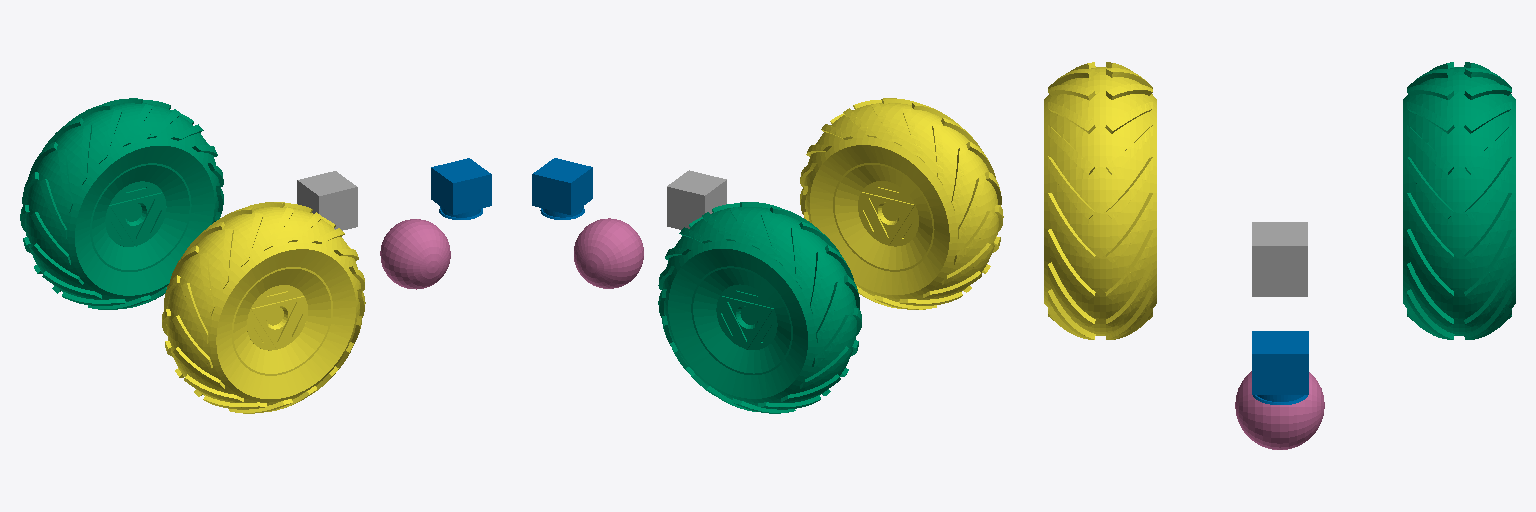
robot.urdf — iBot:
<?xml version="1.0"?>
<!-- =================================================================================== -->
<!-- |    This document was autogenerated by xacro from [local-path]/ros2/airbus_ws/src/Autonomous-Inspection-POC/simulation/models/iBot/iBot.urdf.xacro | -->
<!-- |    EDITING THIS FILE BY HAND IS NOT RECOMMENDED                                 | -->
<!-- =================================================================================== -->
<robot name="iBot">
  <!--**************** DIFFERENTIAL DRIVE CONTROLLER *********************** -->
  <gazebo>
    <plugin filename="libgazebo_ros_diff_drive.so" name="differential_drive_controller">
      <ros>
        <namespace>iBot</namespace>
        <remapping>/cmd_vel:=cmd_vel</remapping>
        <remapping>/odom:=odom</remapping>
      </ros>
      <update_rate>20.0</update_rate>
      <num_wheel_pairs>1</num_wheel_pairs>
      <odometry_frame>odom</odometry_frame>
      <!-- <left_joint>front_left_wheel_joint</left_joint> -->
      <left_joint>back_left_wheel_joint</left_joint>
      <wheel_separation>0.32</wheel_separation>
      <wheel_diameter>0.25</wheel_diameter>
      <!-- <right_joint>front_right_wheel_joint</right_joint> -->
      <right_joint>back_right_wheel_joint</right_joint>
      <wheel_separation>0.32</wheel_separation>
      <wheel_diameter>0.25</wheel_diameter>
      <max_wheel_torque>20</max_wheel_torque>
      <max_wheel_acceleration>1.0</max_wheel_acceleration>
      <publish_odom>true</publish_odom>
      <!-- robot_localization package publishes this transform -->
      <publish_odom_tf>false</publish_odom_tf>
      <!-- The robot_state_publisher package is often used to publish this transform -->
      <publish_wheel_tf>true</publish_wheel_tf>
      <odometry_frame>odom</odometry_frame>
      <robot_base_frame>robot_footprint</robot_base_frame>
    </plugin>
  </gazebo>
  <!-- ************************ CAMERA SENSOR ****************************** -->
  <gazebo reference="camera">
    <sensor name="camera_sensor" type="camera">
      <update_rate>30.0</update_rate>
      <always_on>1</always_on>
      <camera name="camera">
        <!-- <horizontal_fov>1.3962634</horizontal_fov> -->
        <horizontal_fov>1.2</horizontal_fov>
        <image>
          <width>800</width>
          <height>800</height>
          <format>R8G8B8</format>
        </image>
        <clip>
          <near>0.02</near>
          <far>300</far>
        </clip>
        <distortion>
          <k1>0.0</k1>
          <k2>0.0</k2>
          <k3>0.0</k3>
          <p1>0.0</p1>
          <p2>0.0</p2>
          <center>0.5 0.5</center>
        </distortion>
      </camera>
      <plugin filename="libgazebo_ros_camera.so" name="camera_controller">
        <ros>
          <namespace>/iBot</namespace>
          <remapping>camera/image_raw:=/iBot/camera/image</remapping>
          <remapping>camera/camera_info:=/iBot/camera/image/camera_info</remapping>
        </ros>
        <camera_name>camera</camera_name>
        <frame_name>camera_frame</frame_name>
        <hack_baseline>0.07</hack_baseline>
      </plugin>
    </sensor>
  </gazebo>
  <!-- ************************* IMU SENSOR ******************************** -->
  <gazebo reference="imu">
    <sensor name="imu_sensor" type="imu">
      <plugin filename="libgazebo_ros_imu_sensor.so" name="imu">
        <ros>
          <namespace>/iBot</namespace>
          <remapping>~/out:=imu</remapping>
        </ros>
        <initial_orientation_as_reference>false</initial_orientation_as_reference>
      </plugin>
      <always_on>true</always_on>
      <update_rate>100</update_rate>
      <visualize>true</visualize>
      <imu>
        <angular_velocity>
          <x>
            <noise type="gaussian">
              <mean>0.0</mean>
              <stddev>2e-4</stddev>
              <bias_mean>0.0000075</bias_mean>
              <bias_stddev>0.0000008</bias_stddev>
            </noise>
          </x>
          <y>
            <noise type="gaussian">
              <mean>0.0</mean>
              <stddev>2e-4</stddev>
              <bias_mean>0.0000075</bias_mean>
              <bias_stddev>0.0000008</bias_stddev>
            </noise>
          </y>
          <z>
            <noise type="gaussian">
              <mean>0.0</mean>
              <stddev>2e-4</stddev>
              <bias_mean>0.0000075</bias_mean>
              <bias_stddev>0.0000008</bias_stddev>
            </noise>
          </z>
        </angular_velocity>
        <linear_acceleration>
          <x>
            <noise type="gaussian">
              <mean>0.0</mean>
              <stddev>1.7e-2</stddev>
              <bias_mean>0.1</bias_mean>
              <bias_stddev>0.001</bias_stddev>
            </noise>
          </x>
          <y>
            <noise type="gaussian">
              <mean>0.0</mean>
              <stddev>1.7e-2</stddev>
              <bias_mean>0.1</bias_mean>
              <bias_stddev>0.001</bias_stddev>
            </noise>
          </y>
          <z>
            <noise type="gaussian">
              <mean>0.0</mean>
              <stddev>1.7e-2</stddev>
              <bias_mean>0.1</bias_mean>
              <bias_stddev>0.001</bias_stddev>
            </noise>
          </z>
        </linear_acceleration>
      </imu>
    </sensor>
  </gazebo>
  <!-- ********************** JOINT STATE PUBLISHER ************************ -->
  <gazebo>
    <plugin filename="libgazebo_ros_joint_state_publisher.so" name="joint_state_publisher">
      <ros>
        <namespace>iBot</namespace>
        <remapping>~/out:=joint_states</remapping>
      </ros>
      <update_rate>30</update_rate>
      <joint_name>front_left_wheel_joint</joint_name>
      <joint_name>front_right_wheel_joint</joint_name>
      <joint_name>back_left_wheel_joint</joint_name>
      <joint_name>back_right_wheel_joint</joint_name>
    </plugin>
  </gazebo>
  <!-- ********** GAZEBO-ROS-FORCE PLUGIN FOR SIMULATING EDF THRUST ********** -->
  <gazebo>
    <plugin filename="libgazebo_ros_force.so" name="gazebo_ros_force">
      <ros>
        <namespace>iBot</namespace>
        <remapping>/gazebo_ros_force:=wrench</remapping>
      </ros>
      <update_rate>100</update_rate>
      <always_on>true</always_on>
      <link_name>robot_footprint</link_name>
      <force_frame>link</force_frame>
    </plugin>
  </gazebo>
  <gazebo>
    <plugin filename="libgazebo_ros_p3d.so" name="p3d_base_controller">
      <ros>
        <namespace>/iBot</namespace>
        <argument>odom:=ground_truth</argument>
      </ros>
      <always_on>true</always_on>
      <update_rate>50.0</update_rate>
      <body_name>robot_footprint</body_name>
      <gaussian_noise>0.01</gaussian_noise>
      <frame_name>world</frame_name>
      <xyz_offset>0 0 0</xyz_offset>
      <rpy_offset>0 0 0</rpy_offset>
    </plugin>
  </gazebo>
  <!-- ******************** BASE LINK ************************************** -->
  <link name="chassis">
    <collision name="collision">
      <origin rpy=" 1.5707963267948966 0 0" xyz="0 0 0" />
      <geometry>
        <box size="0.4 0.2 0.1" />
        <!-- <mesh filename="package://iBot/meshes/chassis3.obj" /> -->
      </geometry>
    </collision>
    <visual name="chassis_visual">
      <origin rpy=" 1.5707963267948966 0 0" xyz="0 -0 0" />
      <geometry>
        <mesh filename="package://iBot/meshes/chassis3.obj" />
      </geometry>
      <transparency>0</transparency>
      <cast_shadows>1</cast_shadows>
    </visual>
    <inertial>
      <origin rpy="1.5707963267948966 0 1.5707963267948966" xyz="0 0 0" />
      <mass value="15" />
      <inertia ixx="0.21250000000000005" ixy="0.0" ixz="0.0" iyy="0.25000000000000006" iyz="0.0" izz="0.06250000000000001" />
    </inertial>
  </link>
  <!-- ****************** ROBOT BASE FOOTPRINT ***************************  -->
  <!-- Define the center of the main robot chassis projected on the ground -->
  <link name="robot_footprint" />
  <!-- The base footprint of the robot is located underneath the chassis -->
  <joint name="robot_footprint_joint" type="fixed">
    <!-- NOTE- joint's orign is defined w.r.t. parent's reference frame-->
    <origin rpy="0 0 0" xyz="0 0 0.15" />
    <child link="chassis" />
    <parent link="robot_footprint" />
  </joint>
  <link name="back_left_wheel_link">
    <visual>
      <origin rpy="1.5707963267948966 0 0" xyz="0 0 0" />
      <geometry>
        <mesh filename="package://iBot/meshes/wheel3.obj" />
      </geometry>
      <transparency>0</transparency>
      <cast_shadows>1</cast_shadows>
    </visual>
    <collision>
      <origin rpy="1.5707963267948966 0 0" xyz="0 0 0" />
      <geometry>
        <cylinder length="0.1" radius="0.125" />
        <!-- <mesh filename="package://iBot/meshes/wheel3.obj" /> -->
      </geometry>
      <surface>
        <friction>
          <ode>
            <mu>1.0</mu>
            <mu2>0.5</mu2>
            <fdir1>1 0 0</fdir1>
            <slip1>0.0</slip1>
            <slip2>0.0</slip2>
            <!-- <kp value="10000000.0" />
            <kd value="1.0" /> -->
          </ode>
        </friction>
      </surface>
    </collision>
    <inertial>
      <origin rpy="1.5707963267948966 0 0" xyz="0 0 0" />
      <mass value="5" />
      <inertia ixx="0.02369791666666667" ixy="0" ixz="0" iyy="0.02369791666666667" iyz="0" izz="0.0390625" />
    </inertial>
  </link>
  <joint name="back_left_wheel_joint" type="revolute">
    <parent link="chassis" />
    <child link="back_left_wheel_link" />
    <origin rpy="0 0 0" xyz="-0.175 0.16000000000000003 -0.025" />
    <limit effort="1000" lower="-1e+16" upper="1e+16" velocity="1000" />
    <axis xyz="0 1 0" />
    <dynamics damping="1.0" friction="1.0" spring_reference="0" spring_stiffness="0" />
  </joint>
  <link name="back_right_wheel_link">
    <visual>
      <origin rpy="1.5707963267948966 0 0" xyz="0 0 0" />
      <geometry>
        <mesh filename="package://iBot/meshes/wheel3.obj" />
      </geometry>
      <transparency>0</transparency>
      <cast_shadows>1</cast_shadows>
    </visual>
    <collision>
      <origin rpy="1.5707963267948966 0 0" xyz="0 0 0" />
      <geometry>
        <cylinder length="0.1" radius="0.125" />
        <!-- <mesh filename="package://iBot/meshes/wheel3.obj" /> -->
      </geometry>
      <surface>
        <friction>
          <ode>
            <mu>1.0</mu>
            <mu2>0.5</mu2>
            <fdir1>1 0 0</fdir1>
            <slip1>0.0</slip1>
            <slip2>0.0</slip2>
            <!-- <kp value="10000000.0" />
            <kd value="1.0" /> -->
          </ode>
        </friction>
      </surface>
    </collision>
    <inertial>
      <origin rpy="1.5707963267948966 0 0" xyz="0 0 0" />
      <mass value="5" />
      <inertia ixx="0.02369791666666667" ixy="0" ixz="0" iyy="0.02369791666666667" iyz="0" izz="0.0390625" />
    </inertial>
  </link>
  <joint name="back_right_wheel_joint" type="revolute">
    <parent link="chassis" />
    <child link="back_right_wheel_link" />
    <origin rpy="0 0 0" xyz="-0.175 -0.16000000000000003 -0.025" />
    <limit effort="1000" lower="-1e+16" upper="1e+16" velocity="1000" />
    <axis xyz="0 1 0" />
    <dynamics damping="1.0" friction="1.0" spring_reference="0" spring_stiffness="0" />
  </joint>
  <!-- <link name="front_left_wheel_link">
    <visual>
      <origin rpy="1.5707963267948966 0 0" xyz="0 0 0" />
      <geometry>
        <mesh filename="package://iBot/meshes/wheel3.obj" />
      </geometry>
      <transparency>0</transparency>
      <cast_shadows>1</cast_shadows>
    </visual>
    <collision>
      <origin rpy="1.5707963267948966 0 0" xyz="0 0 0" />
      <geometry>
        <cylinder length="0.1" radius="0.125" />
        <mesh filename="package://iBot/meshes/wheel3.obj" />
      </geometry>
      <surface>
        <friction>
          <ode>
            <mu>0</mu>
            <mu2>0</mu2>
            <kp value="10000000.0" />
            <kd value="1.0" />
          </ode>
        </friction>
      </surface>
    </collision>
    <inertial>
      <origin rpy="1.5707963267948966 0 0" xyz="0 0 0" />
      <mass value="5" />
      <inertia ixx="0.02369791666666667" ixy="0" ixz="0" iyy="0.02369791666666667" iyz="0" izz="0.0390625" />
    </inertial>
  </link>
  <joint name="front_left_wheel_joint" type="revolute">
    <parent link="chassis" />
    <child link="front_left_wheel_link" />
    <origin rpy="0 0 0" xyz="0.175 0.16000000000000003 -0.025" />
    <limit effort="1000" lower="-1e+16" upper="1e+16" velocity="1000" />
    <axis xyz="0 1 0" />
    <dynamics damping="1.0" friction="1.0" spring_reference="0" spring_stiffness="0" />
  </joint>
  <link name="front_right_wheel_link">
    <visual>
      <origin rpy="1.5707963267948966 0 0" xyz="0 0 0" />
      <geometry>
        <mesh filename="package://iBot/meshes/wheel3.obj" />
      </geometry>
      <transparency>0</transparency>
      <cast_shadows>1</cast_shadows>
    </visual>
    <collision>
      <origin rpy="1.5707963267948966 0 0" xyz="0 0 0" />
      <geometry>
        <cylinder length="0.1" radius="0.125" />
        <mesh filename="package://iBot/meshes/wheel3.obj" />
      </geometry>
      <surface>
        <friction>
          <ode>
            <mu>0</mu>
            <mu2>0</mu2>
            <kp value="10000000.0" />
            <kd value="1.0" />
          </ode>
        </friction>
      </surface>
    </collision>
    <inertial>
      <origin rpy="1.5707963267948966 0 0" xyz="0 0 0" />
      <mass value="5" />
      <inertia ixx="0.02369791666666667" ixy="0" ixz="0" iyy="0.02369791666666667" iyz="0" izz="0.0390625" />
    </inertial>
  </link>
  <joint name="front_right_wheel_joint" type="revolute">
    <parent link="chassis" />
    <child link="front_right_wheel_link" />
    <origin rpy="0 0 0" xyz="0.175 -0.16000000000000003 -0.025" />
    <limit effort="1000" lower="-1e+16" upper="1e+16" velocity="1000" />
    <axis xyz="0 1 0" />
    <dynamics damping="1.0" friction="1.0" spring_reference="0" spring_stiffness="0" />
  </joint> -->
  <!-- ************************** CAMERA *************************** -->
  <link name="camera">
    <inertial>
      <origin rpy="1.5707963267948966 0 1.5707963267948966" xyz="0 0 0" />
      <mass value="0.1" />
      <inertia ixx="4.166666666666667e-05" ixy="0.0" ixz="0.0" iyy="4.166666666666667e-05" iyz="0.0" izz="4.166666666666667e-05" />
    </inertial>
    <visual name="camera_visual">
      <origin rpy="0 0 1.5707963267948966" xyz="0 0 0" />
      <geometry>
        <mesh filename="package://iBot/meshes/camera.obj" />
      </geometry>
      <transparency>0</transparency>
      <cast_shadows>1</cast_shadows>
    </visual>
    <collision name="camera_colision">
      <origin rpy="0 0 0" xyz="0 0 0" />
      <geometry>
        <box size="0.05 0.05 0.05" />
      </geometry>
    </collision>
  </link>
  <joint name="camera_joint" type="fixed">
    <origin rpy="0 1.5707 0" xyz="0.17500000000000002 0 -0.025" />
    <parent link="chassis" />
    <child link="camera" />
  </joint>
  <link name="camera_frame" />
  <joint name="camera_frame_joint" type="fixed">
    <origin rpy="-1.5707963267948966 0 -1.5707963267948966" xyz="0.025 0 0" />
    <parent link="camera" />
    <child link="camera_frame" />
  </joint>

  <link name="caster_front_link">
    <visual>
      <origin rpy="1.57079632679 0 0" xyz="0 0.0 0"/>
      <geometry>
        <sphere radius="0.04"/>
      </geometry>
      <material name="Black"/>
    </visual>
    <collision>
      <geometry>
        <sphere radius="0.04"/>
      </geometry>
      <origin rpy="1.57079632679 0 0" xyz="0 0.0 0"/>
      <surface>
        <friction>
          <ode>
            <mu>1.0</mu>
            <mu2>0.5</mu2>
            <!-- <kp value="10000000.0" /> -->
            <!-- <kd value="1.0" /> -->
          </ode>
        </friction>
      </surface>
    </collision>
    <inertial>
      <mass value="5"/>
      <origin xyz="0 0 0"/>
      <inertia ixx="0.0032" ixy="0.0" ixz="0.0" iyy="0.0032" iyz="0.0" izz="0.0032"/>
    </inertial>
  </link>
  <joint name="caster_front_joint" type="revolute">
    <parent link="chassis"/>
    <child link="caster_front_link"/>
    <origin rpy="0 0 0" xyz="0.115 0.0 -0.09"/>
    <limit effort="1000" lower="-1e+16" upper="1e+16" velocity="1000" />
    <axis xyz="0 1 0" />
    <dynamics damping="1.0" friction="1.0" spring_reference="0" spring_stiffness="0" />
  </joint>
  <gazebo reference="caster_front_link">
    <turnGravityOff>false</turnGravityOff>
  </gazebo>

  <!-- ************************** IMU *************************** -->
  <link name="imu">
    <inertial>
      <origin rpy="1.5707963267948966 0 1.5707963267948966" xyz="0 0 0" />
      <mass value="0.1" />
      <inertia ixx="4.166666666666667e-05" ixy="0.0" ixz="0.0" iyy="4.166666666666667e-05" iyz="0.0" izz="4.166666666666667e-05" />
    </inertial>
    <visual name="imu_visual">
      <origin rpy="0 0 0" xyz="0 0 0" />
      <geometry>
        <box size="0.05 0.05 0.05" />
      </geometry>
    </visual>
    <collision name="imu_colision">
      <origin rpy="0 0 0" xyz="0 0 0" />
      <geometry>
        <box size="0.05 0.05 0.05" />
      </geometry>
    </collision>
  </link>
  <joint name="imu_joint" type="fixed">
    <origin rpy="0 0 0" xyz="0 0 0" />
    <parent link="chassis" />
    <child link="imu" />
  </joint>
  <gazebo reference="imu">
    <material>Gazebo/Red</material>
  </gazebo>
</robot>

--- What the picture shows (computed from the rendered views, not written in the file) ---
The picture shows the robot from 3 angles, left to right: view 1: azimuth 30°, elevation 25°; view 2: azimuth 150°, elevation 25°; view 3: azimuth 270°, elevation 25°; orthographic projection.
Robot: iBot — 8 links, 7 joints (3 revolute, 4 fixed); root link robot_footprint; default pose: every joint at zero.
Links seen in each view (by area): view 1: back_right_wheel_link, back_left_wheel_link, caster_front_link, camera, imu; view 2: back_left_wheel_link, back_right_wheel_link, caster_front_link, camera, imu; view 3: back_left_wheel_link, back_right_wheel_link, imu, camera, caster_front_link.
Boxes of the visible links, bbox=[...] form: back_right_wheel_link: bbox=[162, 202, 365, 413]; back_left_wheel_link: bbox=[20, 98, 223, 309]; caster_front_link: bbox=[380, 219, 450, 289]; camera: bbox=[431, 158, 491, 219]; imu: bbox=[297, 171, 357, 230]; back_left_wheel_link: bbox=[658, 202, 861, 413]; back_right_wheel_link: bbox=[800, 98, 1003, 309]; caster_front_link: bbox=[574, 218, 643, 288]; camera: bbox=[532, 158, 592, 219]; imu: bbox=[667, 170, 726, 229]; back_left_wheel_link: bbox=[1403, 62, 1515, 339]; back_right_wheel_link: bbox=[1044, 62, 1156, 339]; imu: bbox=[1252, 222, 1307, 296]; camera: bbox=[1252, 331, 1308, 404]; caster_front_link: bbox=[1235, 371, 1324, 449].
Size in the robot's own frame: 0.4989 by 0.42 by 0.2489 metres.
3 mesh visuals loaded from 3 distinct referenced files (2 OBJ); not drawn: 1 (reference not matched to a file when rendering).